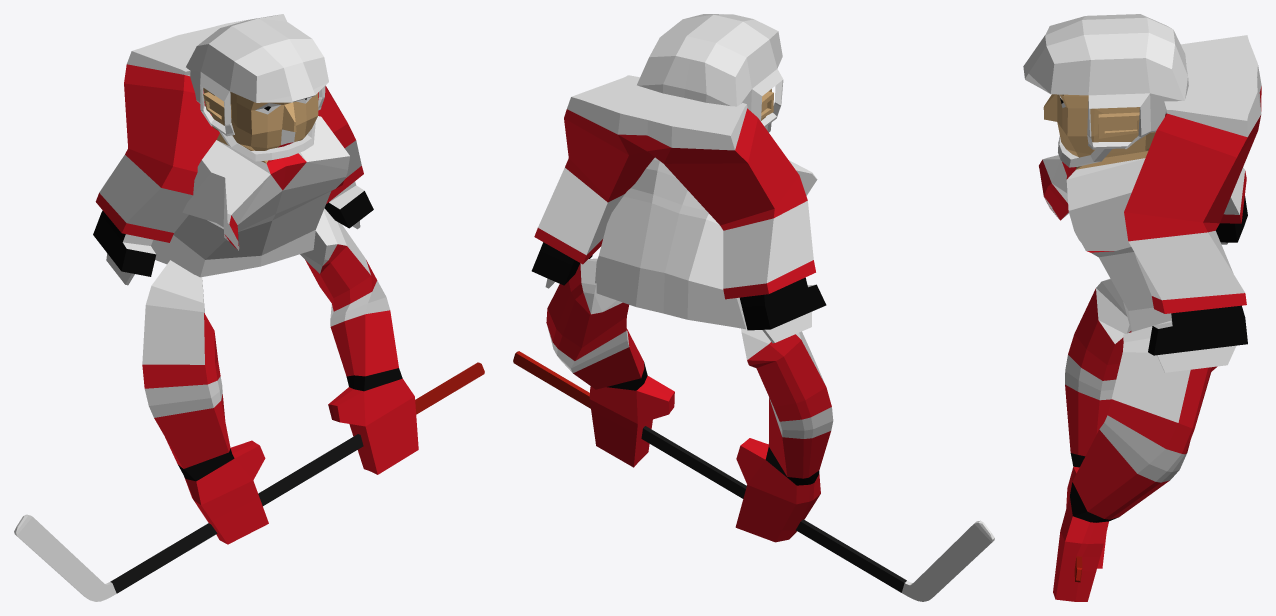
File: player DUP.fbx
The picture shows the model from 3 angles, left to right: view 1: azimuth 30°, elevation 25°; view 2: azimuth 150°, elevation 25°; view 3: azimuth 270°, elevation 25°; orthographic projection. The views are drawn at different scales.
Parts seen in each view (by area): view 1: Arms, Torso, Legs; view 2: Legs, Arms, Torso; view 3: Legs, Torso, Arms.
Part boxes in pixels (x1,y1,x2,y2): Arms: [14, 208, 484, 601]; Torso: [151, 18, 349, 277]; Legs: [93, 14, 373, 285]; Legs: [531, 75, 826, 343]; Arms: [513, 258, 994, 601]; Torso: [595, 14, 817, 329]; Legs: [1124, 35, 1261, 372]; Torso: [1023, 14, 1188, 331]; Arms: [1053, 278, 1217, 601].
Bounding box in the file's own units: 227 × 240 × 87.33.
